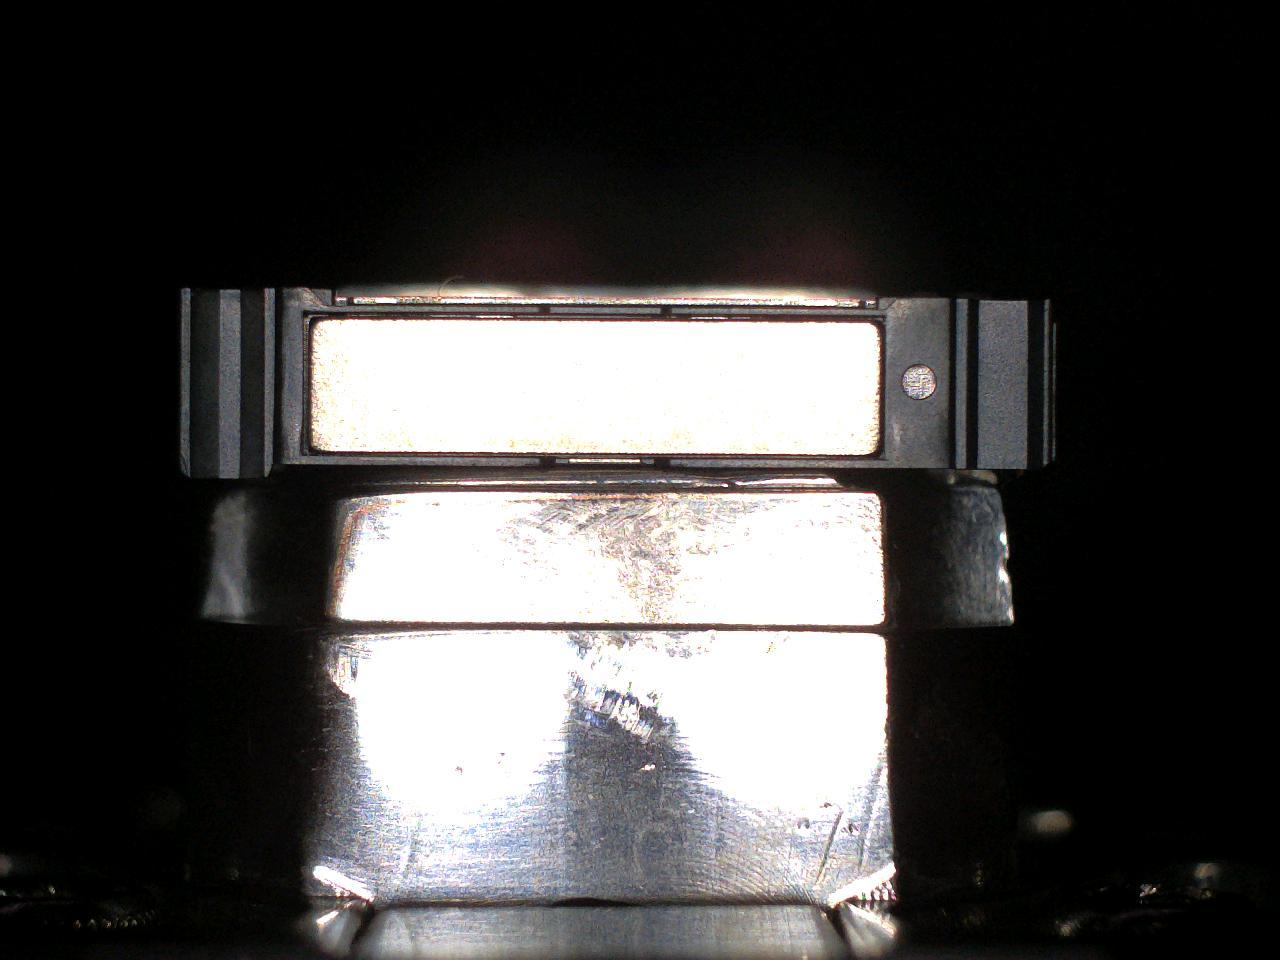frame: (181, 289, 1058, 476)
gap: (670, 313, 884, 324), (311, 311, 542, 321), (310, 452, 543, 460), (670, 454, 886, 459), (551, 314, 661, 323), (556, 453, 656, 459)
magnetic: (311, 320, 880, 455)
